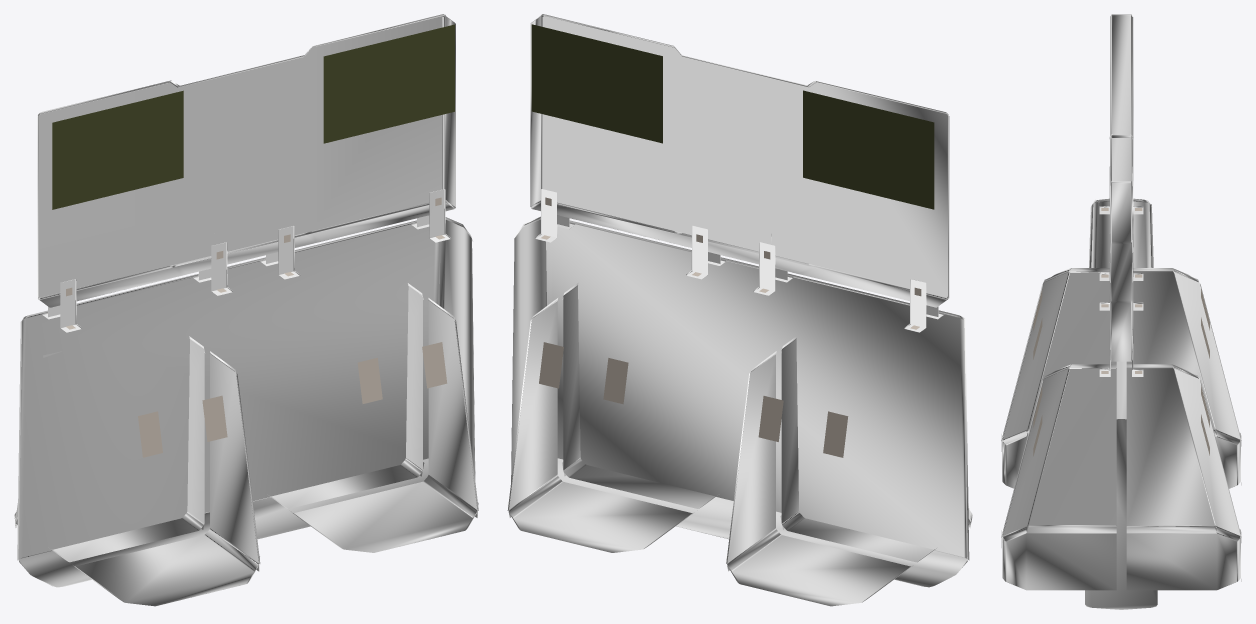
File: fs_compoundfence_chunk_c_06x02x007.glb
3 views of the same model, side by side, from view 1: azimuth 30°, elevation 25°; view 2: azimuth 150°, elevation 25°; view 3: azimuth 270°, elevation 25° (orthographic). The views are drawn at different scales.
Size of the model in its own units: 6.2 by 6.21 by 3.28.
